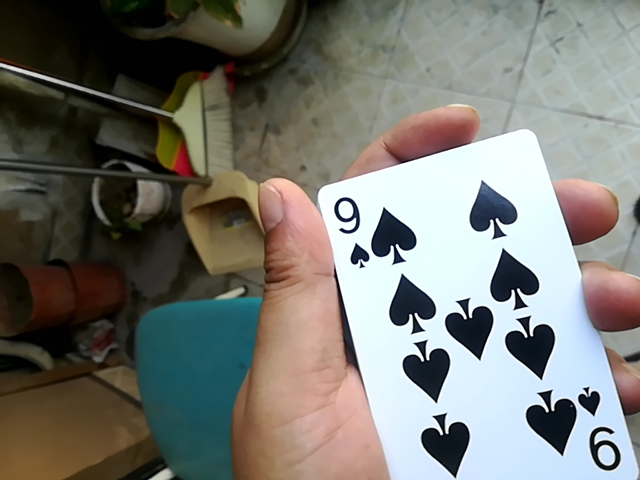ht 9: (312, 128, 636, 479)
